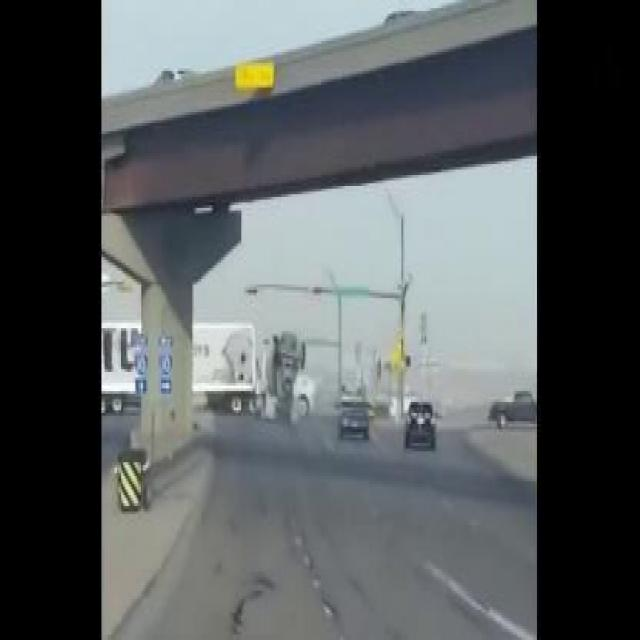accident: (102, 304, 318, 432)
